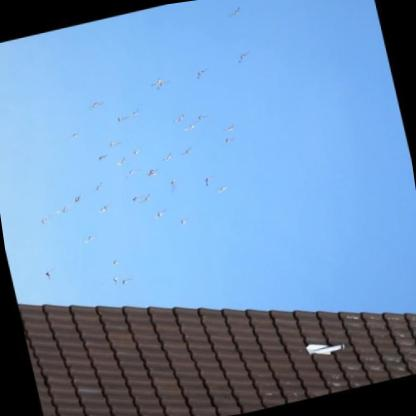bird: (223, 5, 244, 19), (85, 99, 106, 112), (191, 67, 210, 81), (81, 232, 100, 246), (200, 174, 218, 188), (235, 50, 254, 63), (141, 166, 160, 179), (42, 266, 58, 281), (151, 209, 170, 221), (127, 145, 146, 157), (95, 202, 112, 215), (64, 129, 82, 141), (219, 122, 236, 134), (70, 194, 87, 206), (38, 214, 55, 226), (154, 80, 172, 91), (104, 138, 123, 148), (54, 204, 71, 215), (114, 156, 129, 168), (178, 146, 194, 157), (177, 217, 193, 228), (222, 135, 237, 146), (171, 114, 186, 125), (89, 182, 104, 193), (215, 185, 230, 195), (147, 78, 162, 88), (138, 194, 153, 204), (115, 114, 130, 124), (179, 123, 197, 131), (131, 193, 145, 203), (95, 153, 109, 163), (119, 275, 133, 285), (160, 151, 173, 161), (128, 108, 141, 118), (126, 168, 141, 176), (195, 113, 208, 122), (111, 275, 121, 285), (168, 178, 180, 186), (111, 259, 120, 267)
